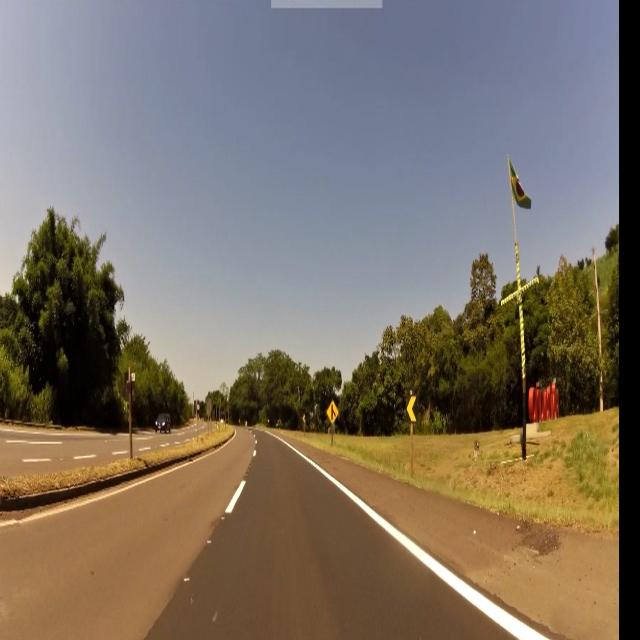A-13b: (326, 400, 339, 425)
Del: (406, 395, 416, 426)
